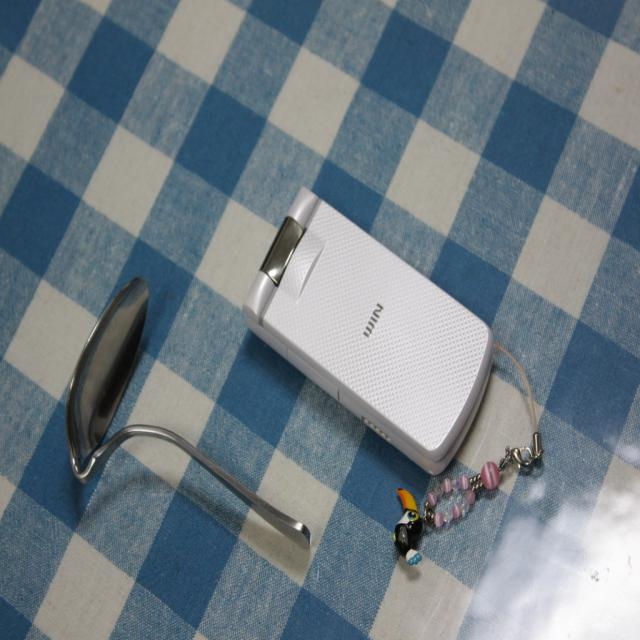Mobile-phone: (239, 164, 501, 493)
